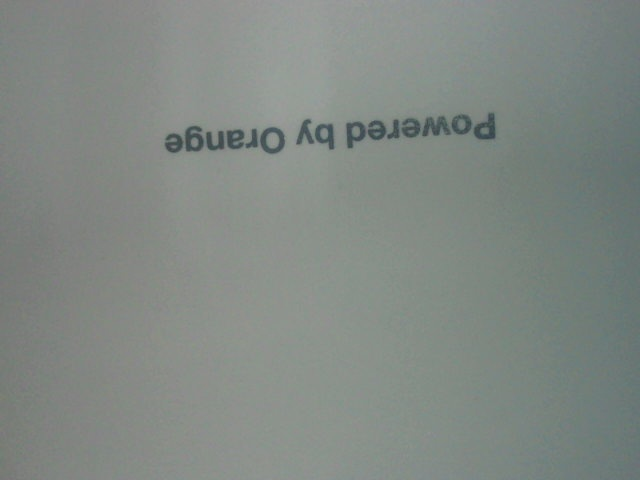AS_PowerByOrange: (148, 88, 517, 161)
